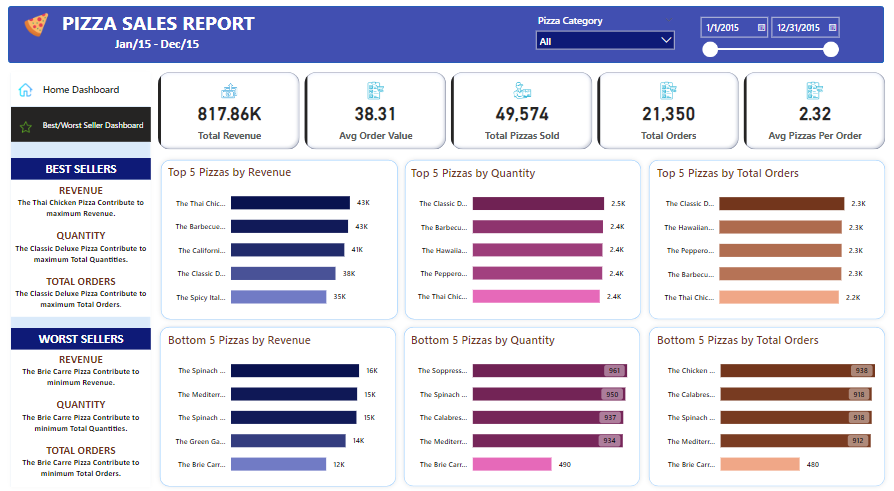

The page's visual inventory and layout, read from the dashboard file:
{"tool":"powerbi","page":{"name":"Best/Worst Seller Dashboard","canvas":[1500,820],"ordinal":1},"visuals":[{"type":"shape","box":[11.8,114.7,248.5,704.4],"z":0},{"type":"cardVisual","fields":{"Data":["pizza_sales.Total_Revenue","pizza_sales.Avg_Order_Value","pizza_sales.Total_Pizzas_Sold","pizza_sales.Total_Orders","pizza_sales.Avg_Pizzas_Per_Order"]},"box":[260.3,114.3,1225.4,139.7],"z":1000},{"type":"shape","box":[14.3,9.5,1460.3,95.2],"z":2000},{"type":"textbox","box":[100,9.5,354,61.9],"z":3000},{"type":"textbox","box":[188.9,55.6,177.8,41.3],"z":4000},{"type":"image","box":[36.5,14.3,50.8,54],"z":5000},{"type":"shape","box":[261.3,258.1,411.3,282.3],"z":6000},{"type":"textbox","box":[19.2,263.1,233.1,36.2],"z":7000},{"type":"textbox","box":[19.2,299.2,233.1,227.7],"z":8000},{"type":"textbox","box":[19.2,582.3,233.1,230],"z":10000},{"type":"textbox","box":[19.2,546.2,233.1,36.2],"z":11000},{"type":"slicer","fields":{"Values":["pizza_sales.pizza_category"]},"box":[885.7,19,250.8,77.8],"z":13000},{"type":"slicer","fields":{"Values":["pizza_sales.order_date"]},"box":[1157.1,19,250.8,95.2],"z":14000},{"type":"shape","box":[1075.8,258.1,410,282],"z":15000},{"type":"shape","box":[667.7,258.1,409.7,282.3],"z":16000},{"type":"shape","box":[259.7,537.1,409.7,282.3],"z":17000},{"type":"shape","box":[666.1,537.1,409.7,282],"z":18000},{"type":"shape","box":[1075.8,537.1,409.7,282],"z":19000},{"type":"barChart","title":"Top 5 Pizzas by Revenue","fields":{"Category":["pizza_sales.pizza_name"],"Y":["pizza_sales.Total Revenue"]},"box":[277.4,272.6,388.7,254.8],"z":20000},{"type":"barChart","title":"Bottom 5 Pizzas by Revenue","fields":{"Category":["pizza_sales.pizza_name"],"Y":["pizza_sales.Total Revenue"]},"box":[277.4,553.2,388.7,253.2],"z":21000},{"type":"barChart","title":"Top 5 Pizzas by Quantity","fields":{"Category":["pizza_sales.pizza_name"],"Y":["pizza_sales.Total Pizzas Sold"]},"box":[682.3,275.8,380.6,251.6],"z":22000},{"type":"barChart","title":"Bottom 5 Pizzas by Quantity","fields":{"Category":["pizza_sales.pizza_name"],"Y":["pizza_sales.Total Pizzas Sold"]},"box":[682.3,553.2,380.6,253.2],"z":23000},{"type":"barChart","title":"Top 5 Pizzas by Total Orders","fields":{"Category":["pizza_sales.pizza_name"],"Y":["pizza_sales.Total Orders"]},"box":[1091.9,274.2,382.3,253.2],"z":24000},{"type":"barChart","title":"Bottom 5 Pizzas by Total Orders","fields":{"Category":["pizza_sales.pizza_name"],"Y":["pizza_sales.Total Orders"]},"box":[1091.9,553.2,390.3,253.2],"z":25000},{"type":"pageNavigator","box":[19.2,178.5,233.1,58.5],"z":25001},{"type":"pageNavigator","box":[19.2,120.8,233.1,57.7],"z":25002},{"type":"image","box":[27,133,35,33],"z":25003},{"type":"image","box":[26,196,36,30],"z":25004}]}

Visuals, with their boxes in screenshot pixels (x1, y1, x2, y2), scaled from the page's 1500x820 canvas onto the 894x491 screenshot:
shape: crop(7, 69, 155, 490)
cardVisual - pizza_sales.Total_Revenue x pizza_sales.Avg_Order_Value: crop(155, 68, 885, 152)
shape: crop(9, 6, 879, 63)
textbox: crop(60, 6, 271, 43)
textbox: crop(113, 33, 219, 58)
image: crop(22, 9, 52, 41)
shape: crop(156, 155, 401, 324)
textbox: crop(11, 158, 150, 179)
textbox: crop(11, 179, 150, 315)
textbox: crop(11, 349, 150, 486)
textbox: crop(11, 327, 150, 349)
slicer - pizza_sales.pizza_category: crop(528, 11, 677, 58)
slicer - pizza_sales.order_date: crop(690, 11, 839, 68)
shape: crop(641, 155, 886, 323)
shape: crop(398, 155, 642, 324)
shape: crop(155, 322, 399, 490)
shape: crop(397, 322, 641, 490)
shape: crop(641, 322, 885, 490)
"Top 5 Pizzas by Revenue" barChart: crop(165, 163, 397, 316)
"Bottom 5 Pizzas by Revenue" barChart: crop(165, 331, 397, 483)
"Top 5 Pizzas by Quantity" barChart: crop(407, 165, 633, 316)
"Bottom 5 Pizzas by Quantity" barChart: crop(407, 331, 633, 483)
"Top 5 Pizzas by Total Orders" barChart: crop(651, 164, 879, 316)
"Bottom 5 Pizzas by Total Orders" barChart: crop(651, 331, 883, 483)
pageNavigator: crop(11, 107, 150, 142)
pageNavigator: crop(11, 72, 150, 107)
image: crop(16, 80, 37, 99)
image: crop(15, 117, 37, 135)
